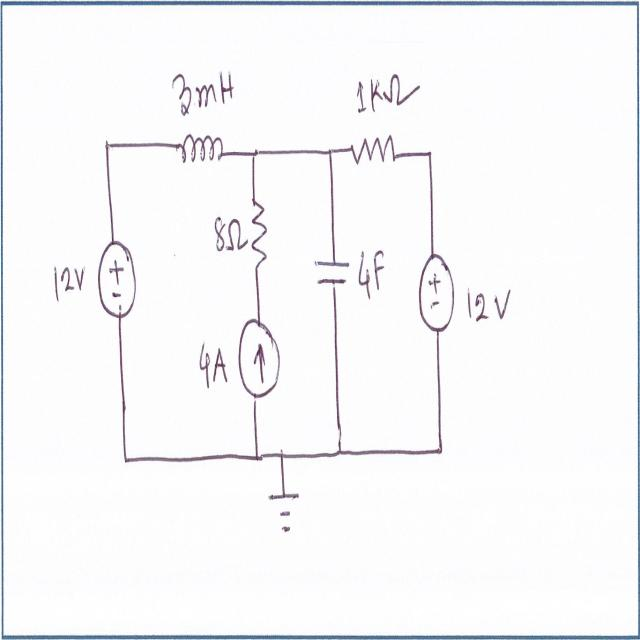capacitor: (315, 252, 353, 302)
current_source: (237, 312, 282, 400)
ground: (267, 486, 302, 541)
inductor: (173, 128, 229, 173)
resistor: (346, 133, 397, 178), (248, 192, 270, 272)
voltage_source: (415, 240, 463, 343), (96, 228, 138, 326)
